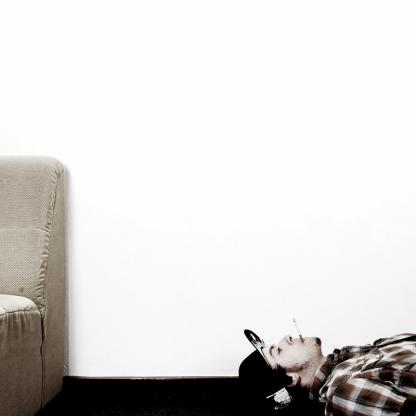smoking: (293, 318, 304, 344)
